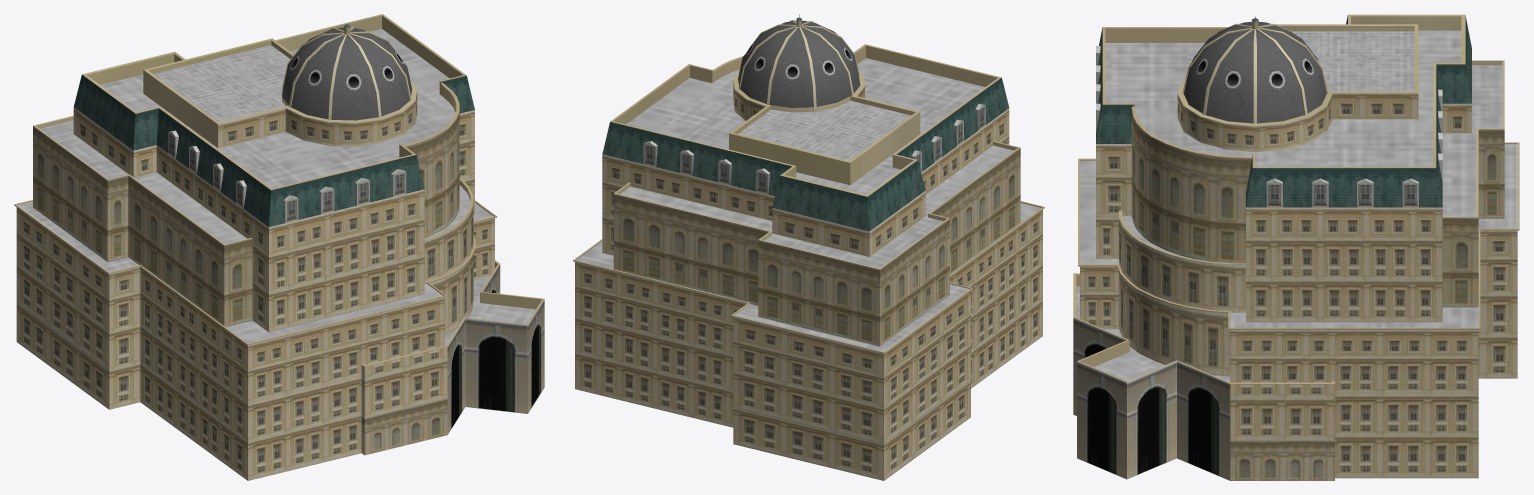
3 views of the same model, side by side, from view 1: azimuth 30°, elevation 25°; view 2: azimuth 150°, elevation 25°; view 3: azimuth 270°, elevation 25° (orthographic). The views are drawn at different scales.
Parts seen in each view (by area): view 1: HN574_BoTaiChinh; view 2: HN574_BoTaiChinh; view 3: HN574_BoTaiChinh.
Part boxes in pixels (x1,y1,x2,y2): HN574_BoTaiChinh: [14, 14, 544, 480]; HN574_BoTaiChinh: [573, 14, 1044, 480]; HN574_BoTaiChinh: [1073, 14, 1519, 480].
Bounding box in the file's own units: 68.28 × 66.09 × 68.28.
Materials: 1 (1 with a texture image).
